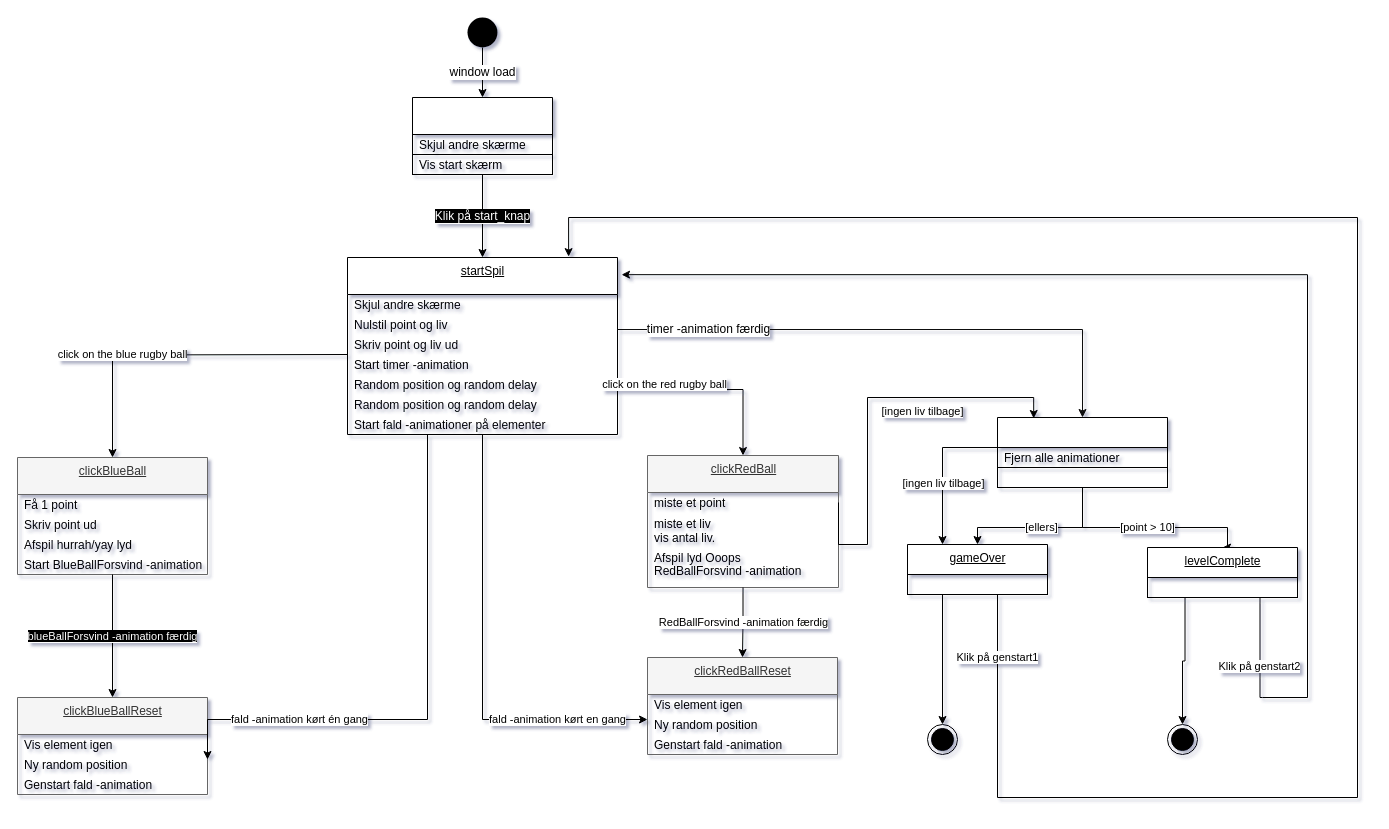
Some shapes in this 1389 by 829 pixel diagram are drawn without their labels. Here are the shapes that lost their labels. From the top down, the box of each, then its label:
(412, 96, 552, 174): sidenVises
(996, 416, 1168, 488): stopSpillet
(996, 466, 1168, 488): Fjern alle eventListerner-ere
(906, 574, 1048, 594): Vis gameover skærm
(1146, 576, 1298, 598): Vis levelcomplete skærm
